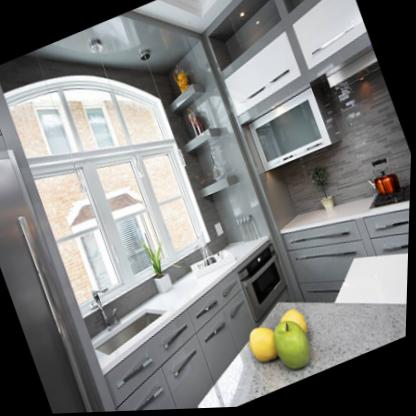Cabinet: (107, 274, 258, 412), (225, 0, 367, 117), (284, 212, 411, 306)
Window: (4, 73, 211, 317)
